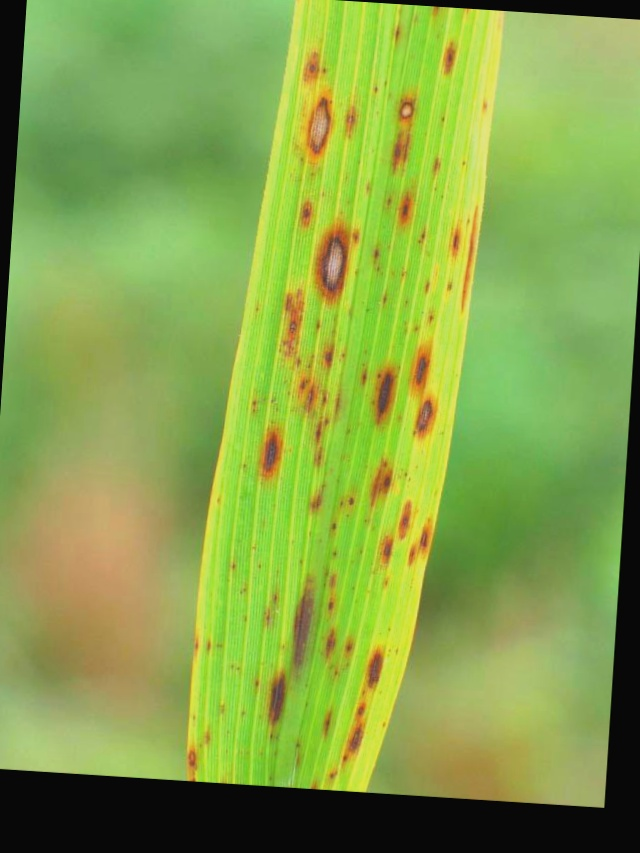Bacterial_Leaf_Blight: (277, 571, 326, 685), (317, 217, 357, 295), (364, 350, 402, 422), (304, 89, 338, 164), (338, 693, 369, 772), (256, 676, 296, 736), (254, 416, 288, 486), (365, 446, 405, 505), (362, 633, 400, 694), (407, 333, 438, 395), (389, 182, 429, 230), (295, 39, 332, 82), (414, 389, 440, 441), (394, 490, 415, 540), (463, 198, 472, 314), (441, 216, 462, 265), (388, 95, 423, 124), (416, 511, 434, 565), (374, 529, 400, 565), (438, 37, 457, 75), (179, 748, 202, 779)
